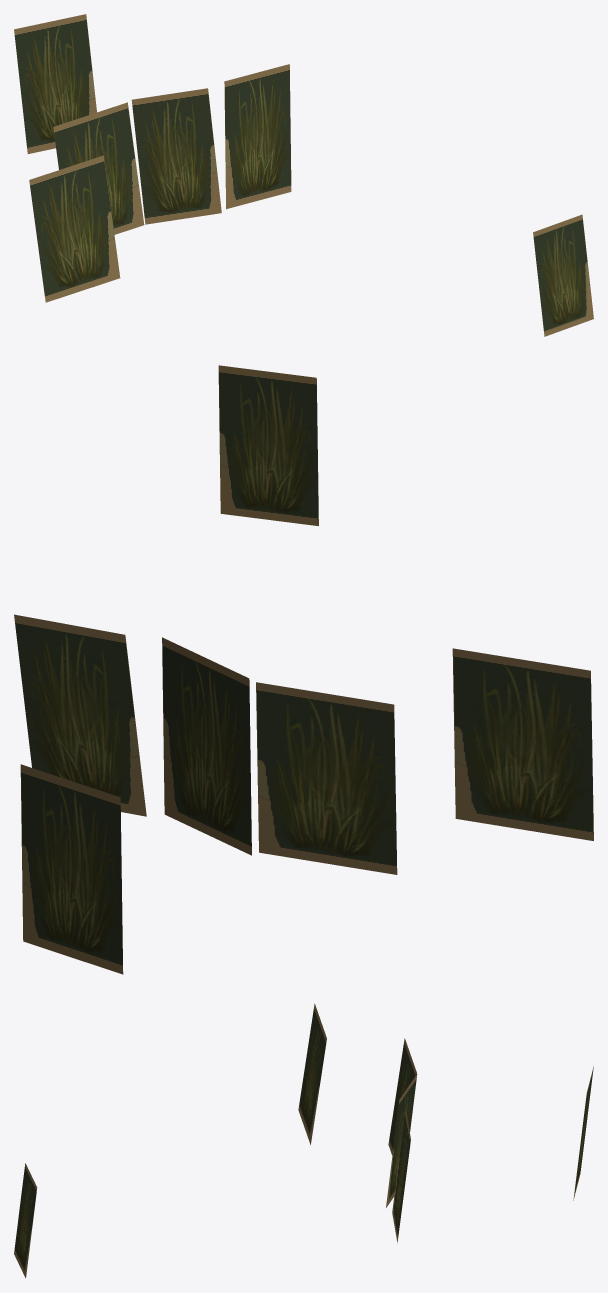
The model's file is object_grass_polys04.fbx.
3 renders of one model, top to bottom at view 1: azimuth 30°, elevation 25°; view 2: azimuth 150°, elevation 25°; view 3: azimuth 270°, elevation 25°, orthographic. The views are drawn at different scales.
Parts seen in each view (by area): view 1: Material_#238683980/town_grass_mat; view 2: Material_#238683980/town_grass_mat; view 3: Material_#238683980/town_grass_mat.
Part boxes in pixels (left/top/right/bottom): Material_#238683980/town_grass_mat: left=14, top=14, right=593, bottom=336; Material_#238683980/town_grass_mat: left=14, top=365, right=593, bottom=974; Material_#238683980/town_grass_mat: left=14, top=1003, right=593, bottom=1278.
Size of the model in its own units: 7.55 by 2.23 by 10.72.
